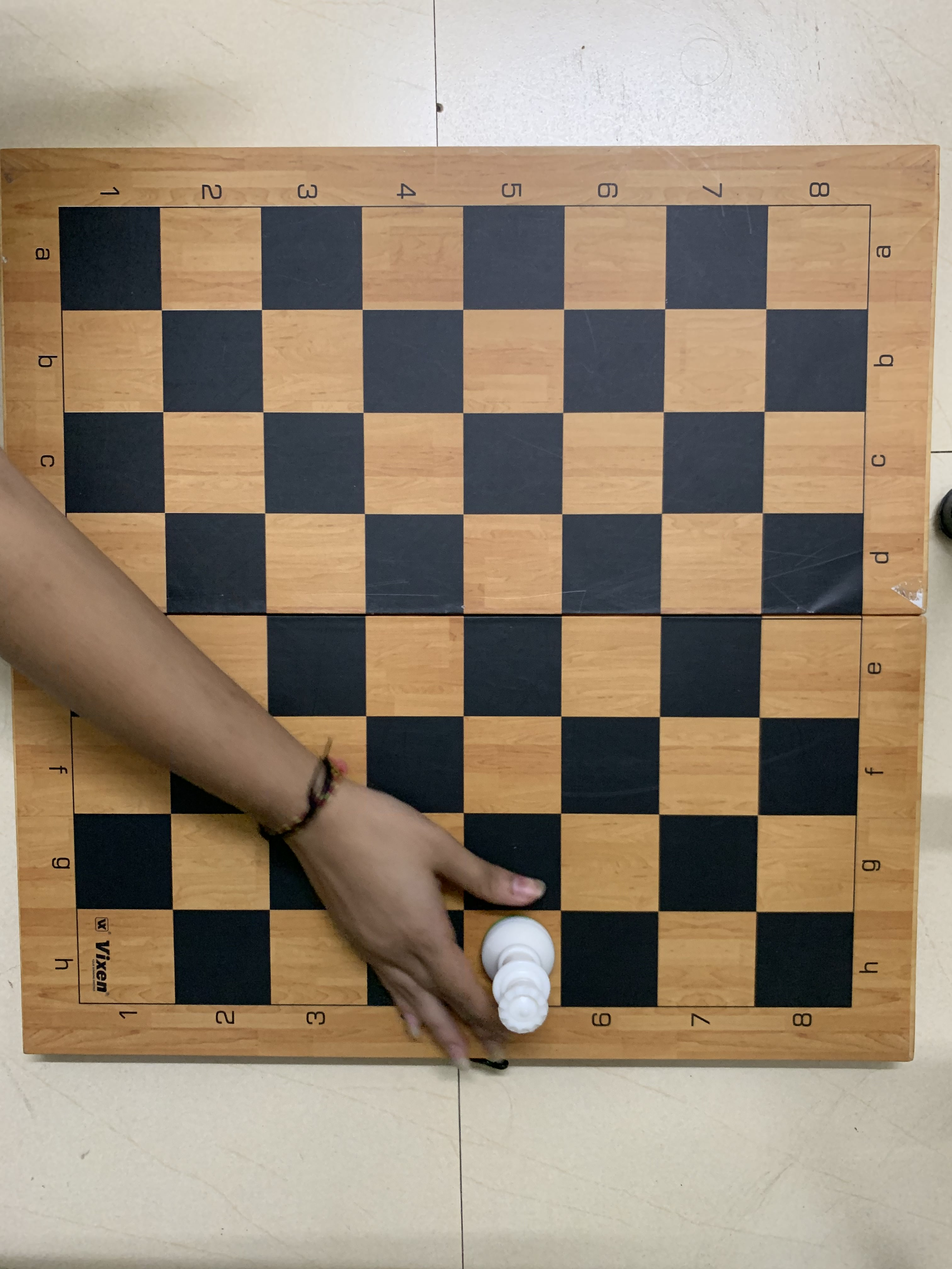white_queen: (464, 909, 559, 1036)
